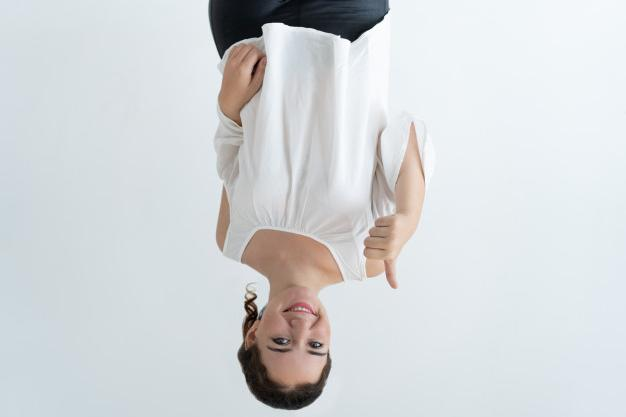thumbsdown: (363, 215, 399, 290)
